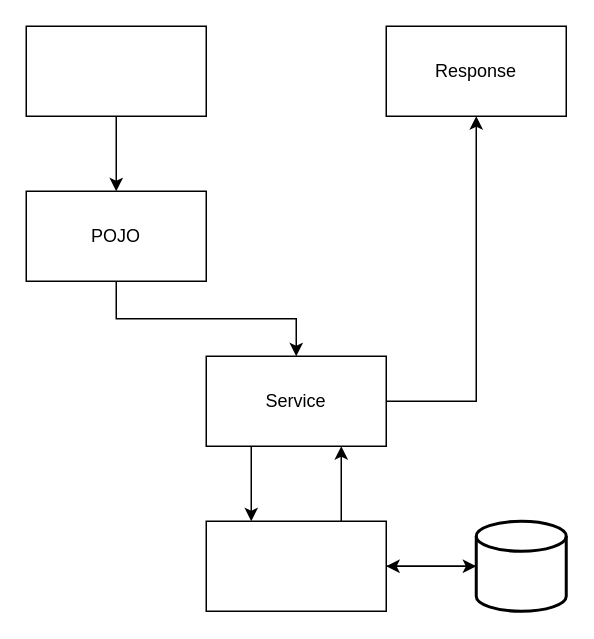
Some shapes in this 594 by 639 pixel diagram are drawn without their labels. The centre of each missing label's shape, as x and y in pixels:
"Repository" goes at point (295, 565).
"Request" goes at point (115, 70).
